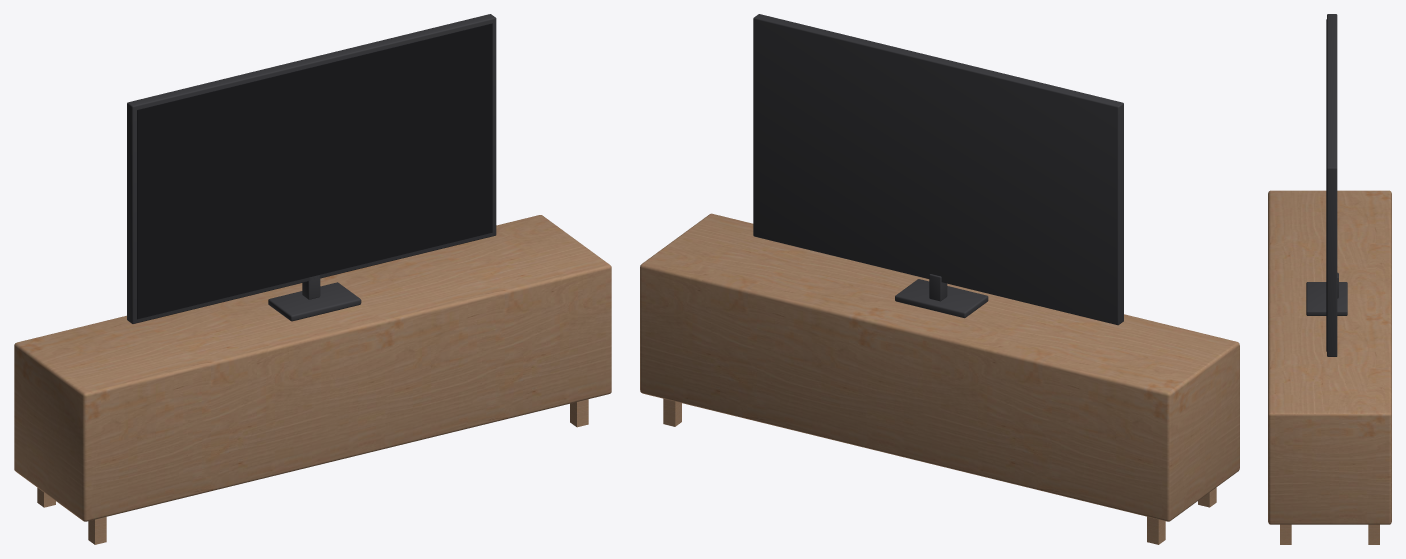
File: tv_console.glb
The picture shows the model from 3 angles, left to right: view 1: azimuth 30°, elevation 25°; view 2: azimuth 150°, elevation 25°; view 3: azimuth 270°, elevation 25°; orthographic projection. The views are drawn at different scales.
Parts seen in each view (by area): view 1: tv_console; view 2: tv_console; view 3: tv_console.
Boxes of the visible parts, x1,y1,x2,y2 form: tv_console: (14,14,611,544); tv_console: (640,14,1239,544); tv_console: (1268,14,1391,544).
Size of the model in its own units: 1.8 by 1.31 by 0.42.
Materials: 3 (1 with a texture image).
